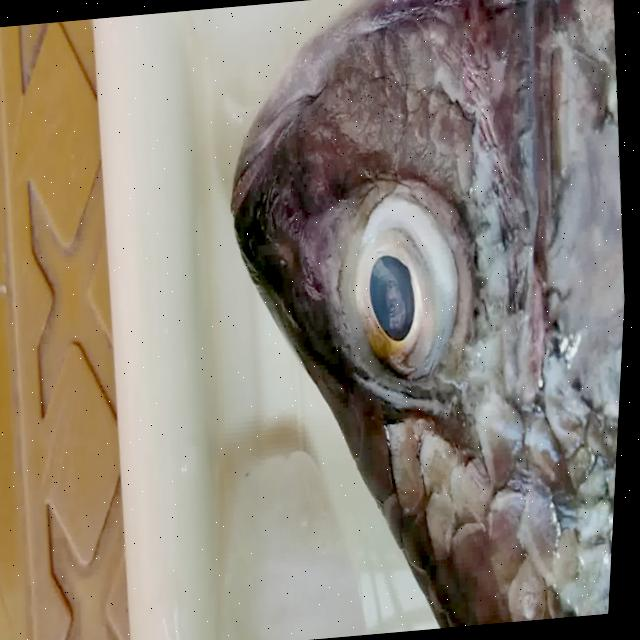Fresh: (320, 172, 491, 414)
